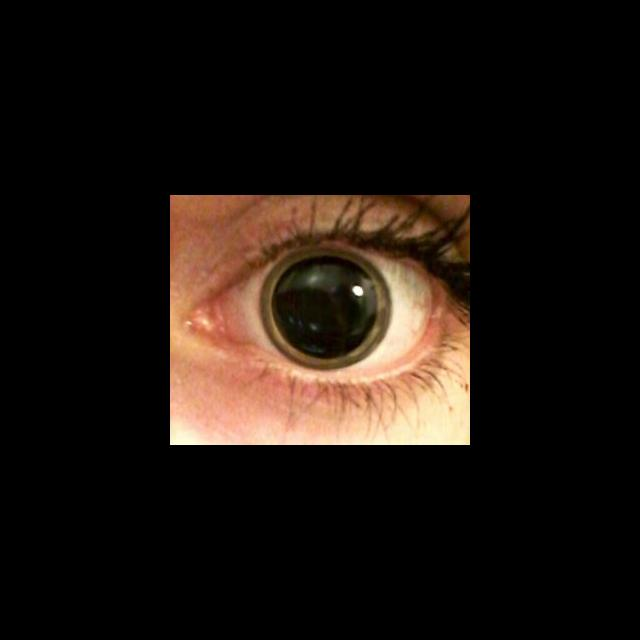eye: (235, 240, 433, 375)
iris: (261, 245, 394, 370)
